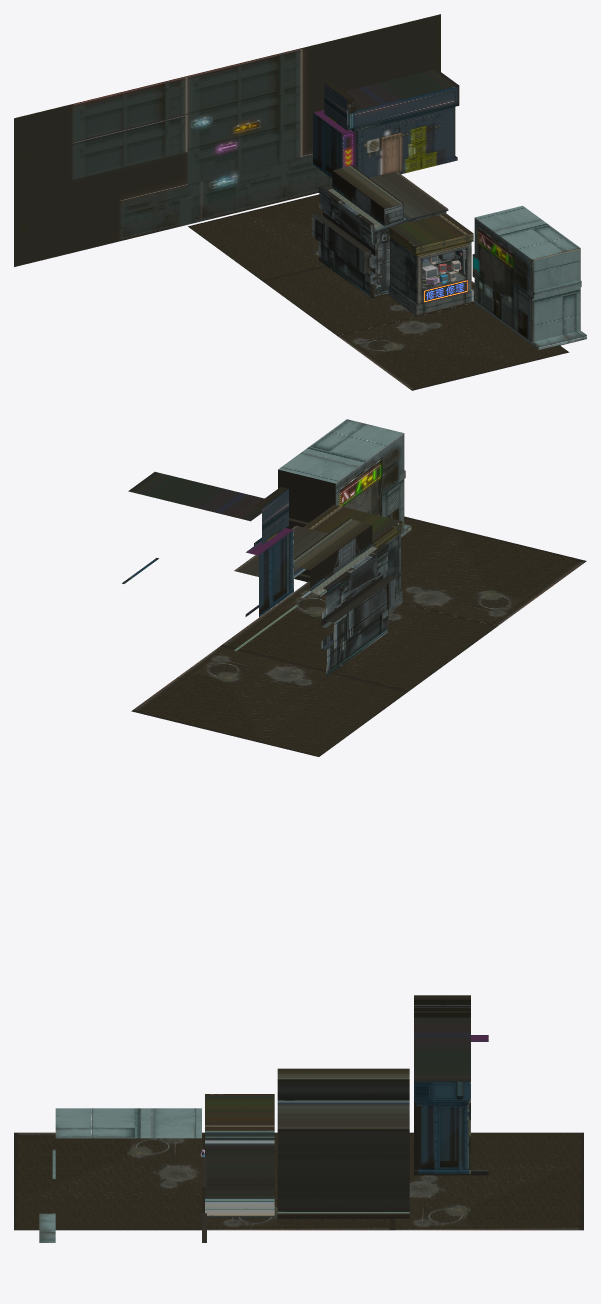
Rendered from Background.glb.
3 renders of one model, top to bottom at view 1: azimuth 30°, elevation 25°; view 2: azimuth 150°, elevation 25°; view 3: azimuth 270°, elevation 25°, orthographic. The views are drawn at different scales.
Visible parts, largest first — view 1: background, Store008, Store2, Floor, Store4, Floor002, Store3, Floor001, Store3_B; view 2: Floor002, Floor, Floor001, Store4, Store2, Store008, Store3; view 3: Store4, Floor, Floor002, Store008, Store3, Store2, Floor001.
Boxes of the visible parts, x1,y1,x2,y2 form: background: (14,14,440,266); Store008: (313,69,459,177); Store2: (472,205,586,349); Floor: (337,302,569,390); Store4: (312,165,448,298); Floor002: (188,194,325,280); Store3: (388,213,473,315); Floor001: (262,266,474,335); Store3_B: (422,249,467,303); Floor002: (131,646,407,756); Floor: (401,516,586,626); Floor001: (221,581,497,691); Store4: (234,518,395,677); Store2: (278,419,411,581); Store008: (122,472,293,617); Store3: (301,504,402,612); Store4: (277,1068,409,1218); Floor: (14,1132,203,1230); Floor002: (394,1132,583,1230); Store008: (414,995,488,1175); Store3: (205,1094,274,1216); Store2: (39,1108,206,1242); Floor001: (204,1132,394,1230).
Size of the model in its own units: 983 by 339 by 900.
7 materials, 7 textured.
